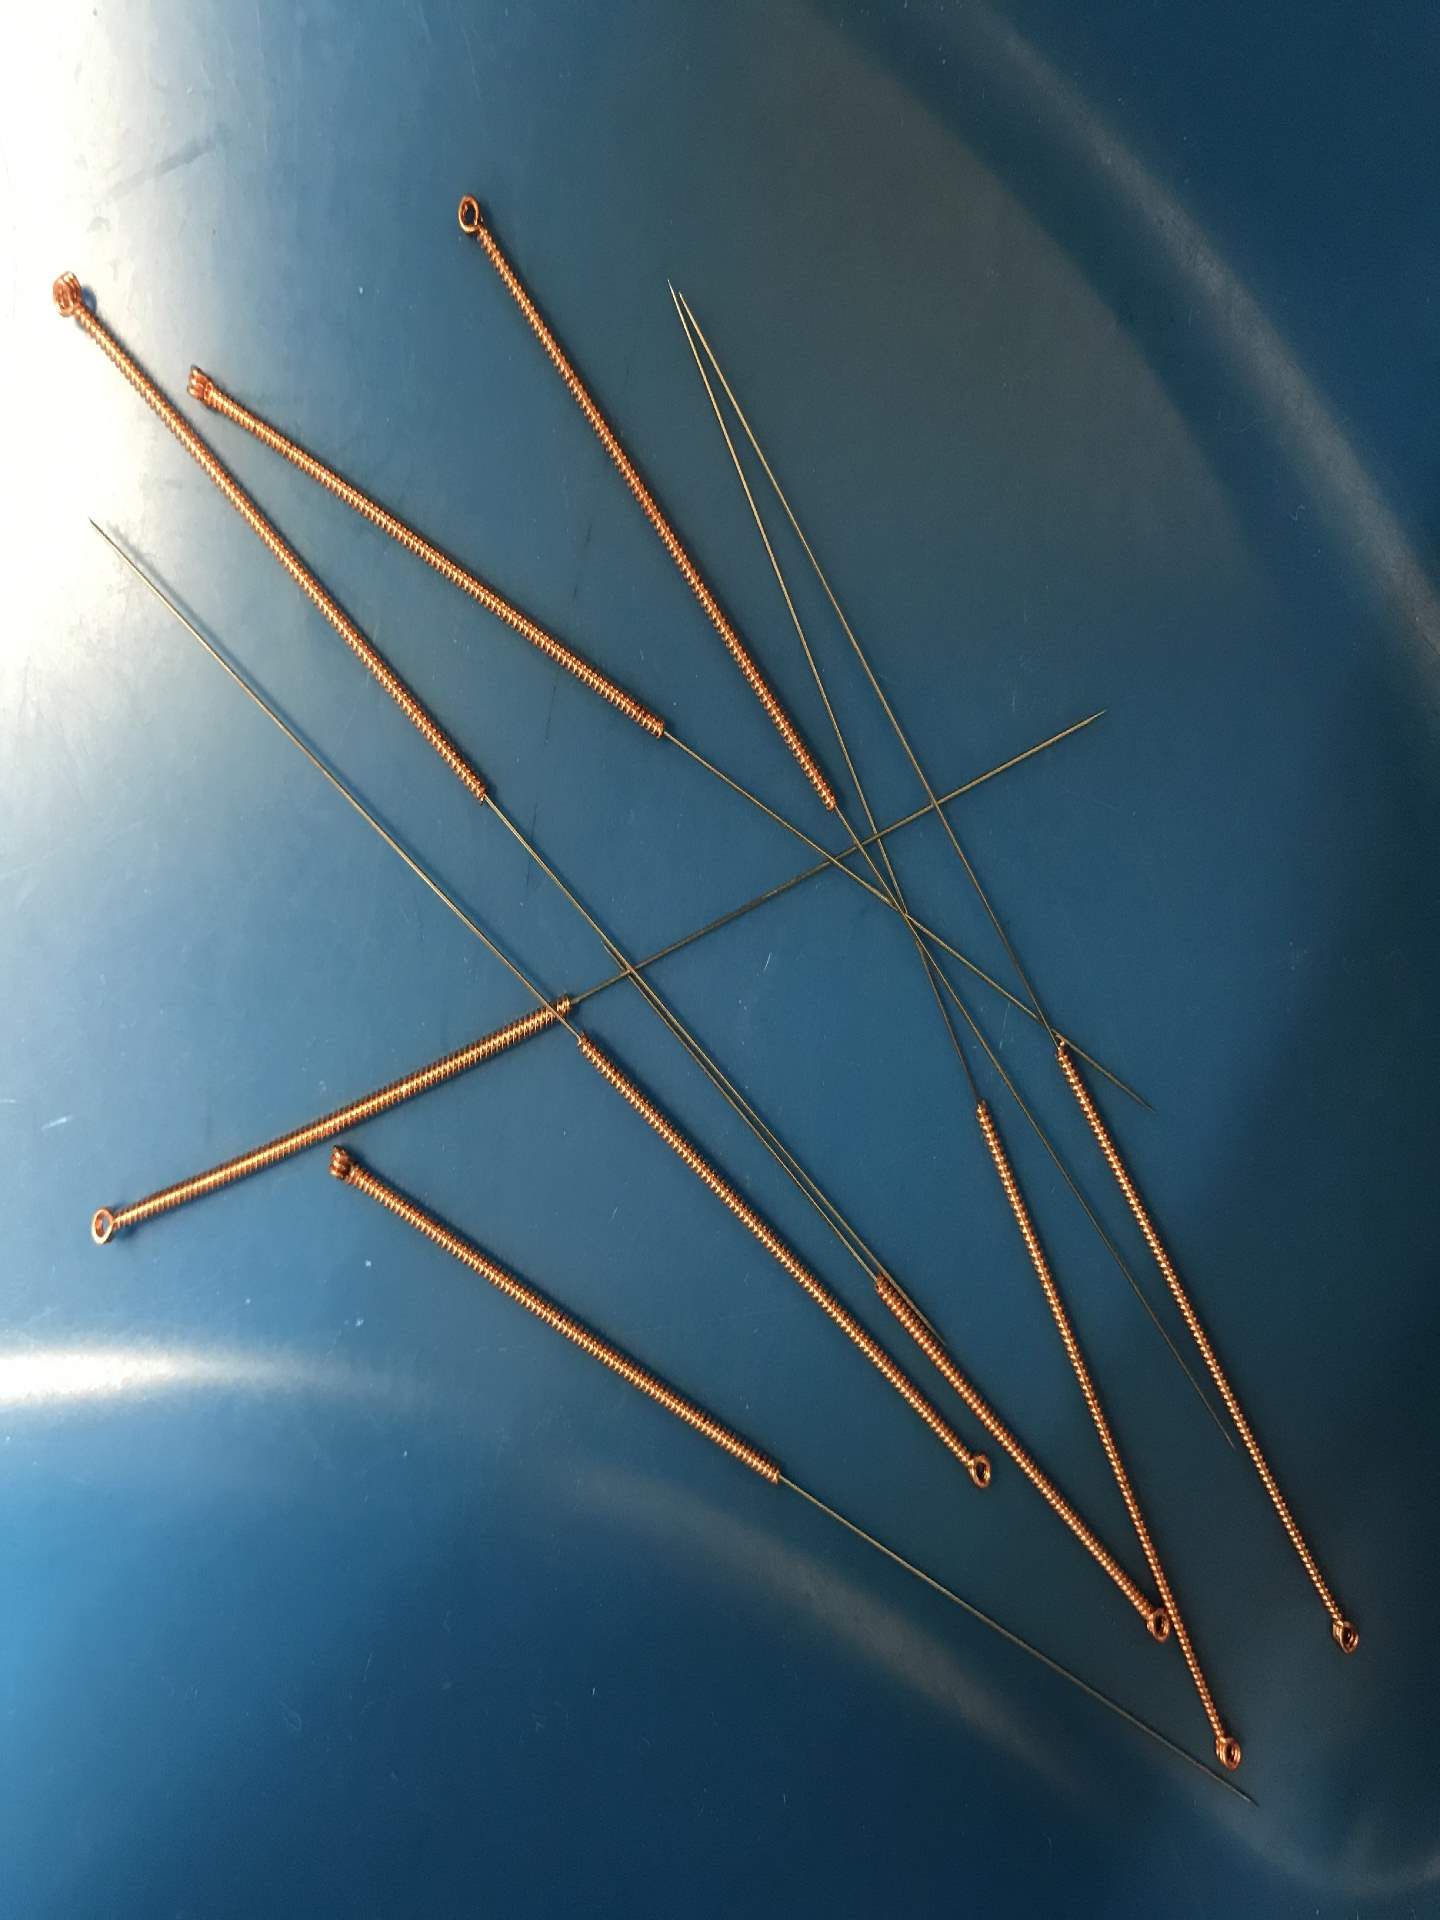needle: (36, 259, 104, 342), (440, 178, 498, 262), (1193, 1711, 1251, 1782), (1313, 1596, 1370, 1665), (76, 1191, 132, 1259), (318, 1138, 377, 1202), (174, 351, 231, 416), (951, 1442, 1001, 1497), (1122, 1603, 1175, 1649)
